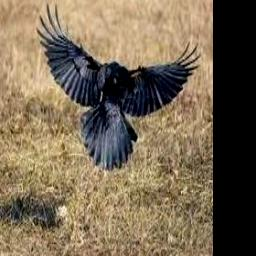Crow: (35, 2, 201, 169)
